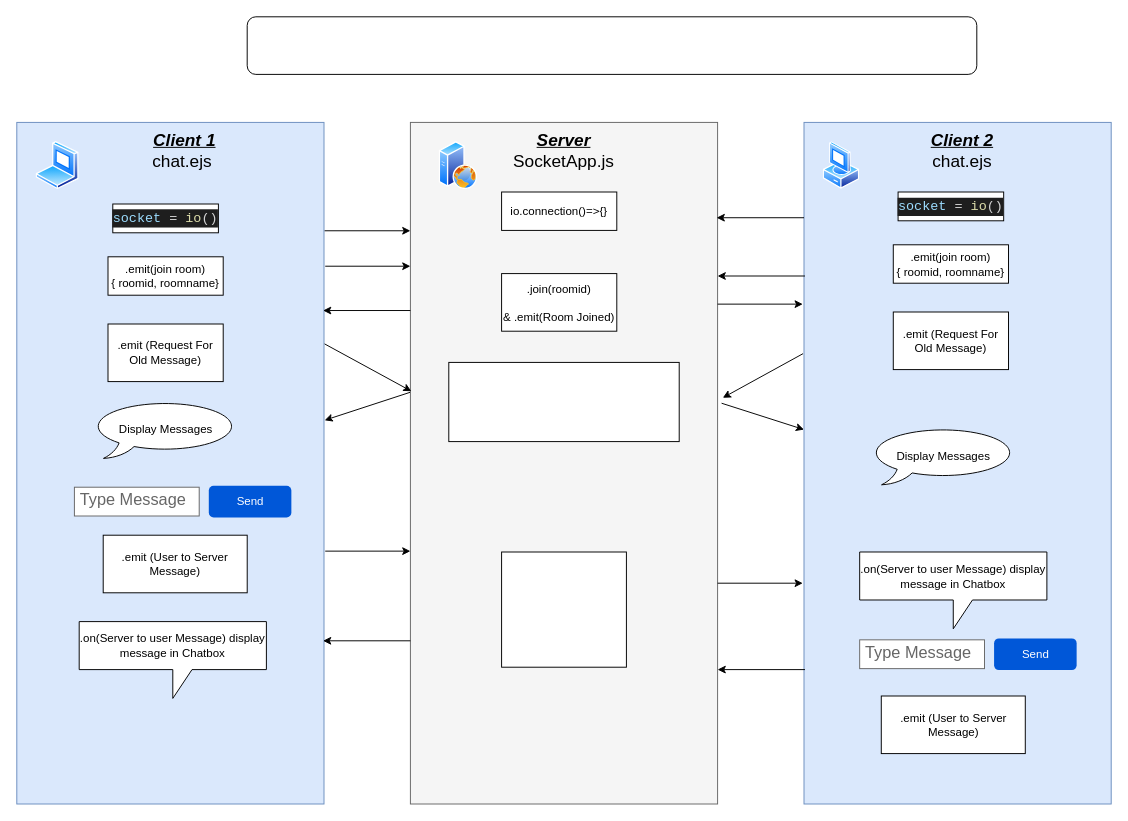
This 1128x821 diagram has some shape labels left out. The centre of each missing label's shape, as x and y in pixels:
retrieve and emit(Previous Messages): point 563,401
store and emit(Server to user Message) to other user in room: point 563,609
WORKING OF SOCKET CONNECTION FOR APLICATION: point 611,45
